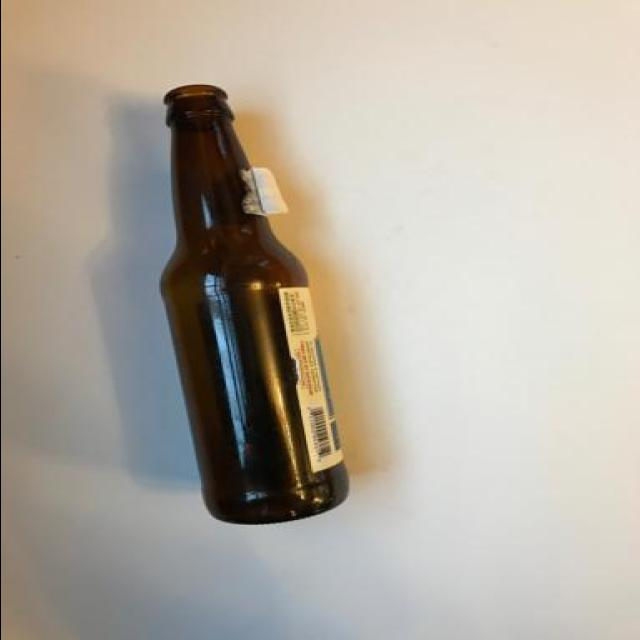glass: (125, 78, 388, 594)
